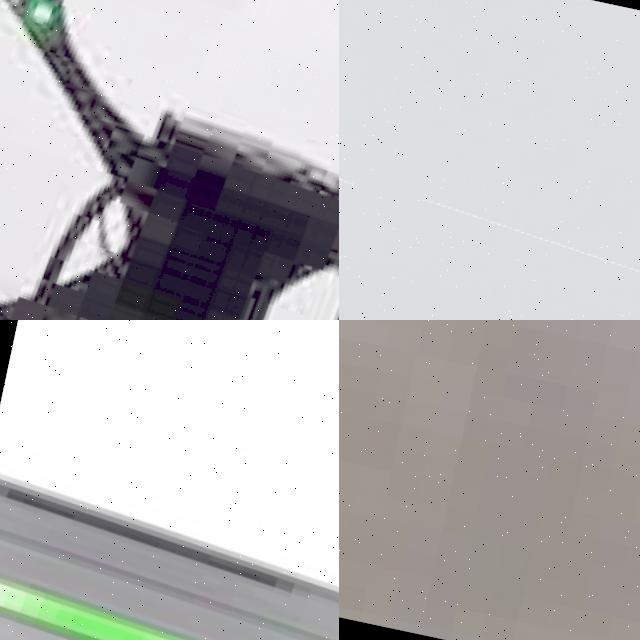drone: (0, 0, 339, 320), (0, 387, 339, 640), (339, 145, 640, 320)
